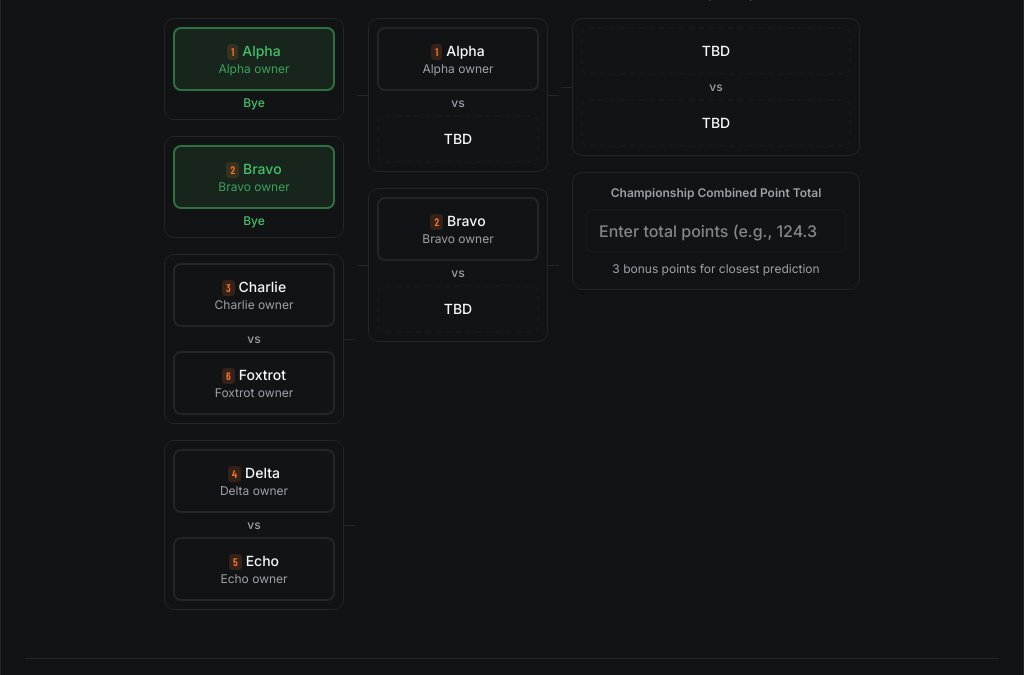
Scenario: PlayoffsBracket, 2026 and later › clears a semifinal pick the re-seed made impossible, and says so
The image size is (1024, 675).
(page scrolled)
What coordinates should you click on to do the following:
click the text "Foxtrot"
I would click on:
 (254, 375)
Its box is [222, 366, 286, 384].
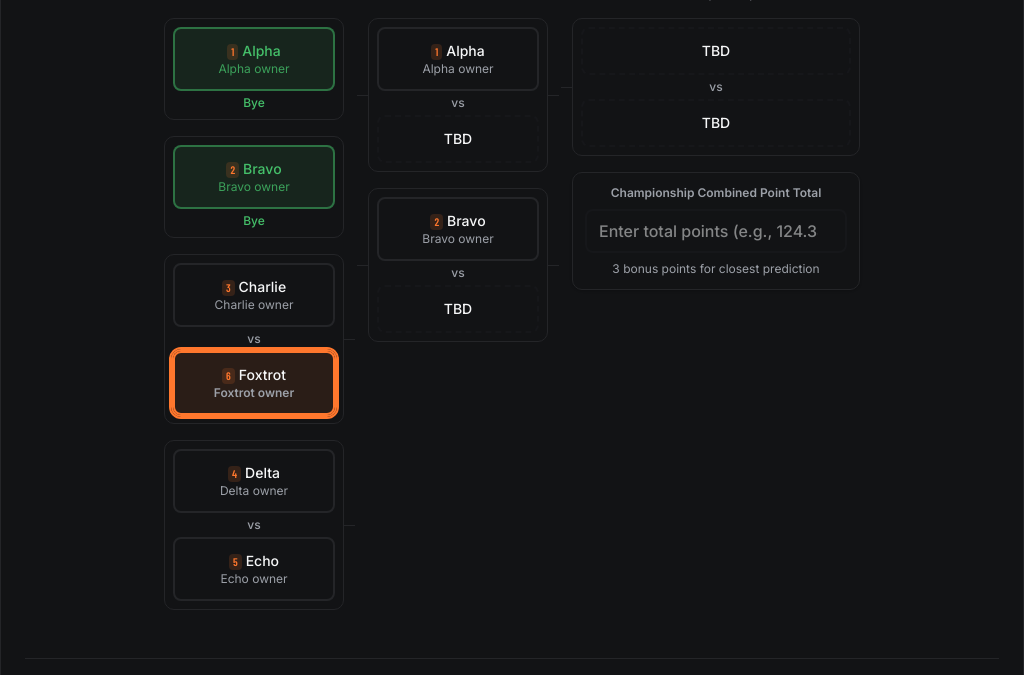
What coordinates should you click on to do the following:
click the text "Delta"
I would click on:
 (254, 473)
Its box is [228, 464, 280, 482].
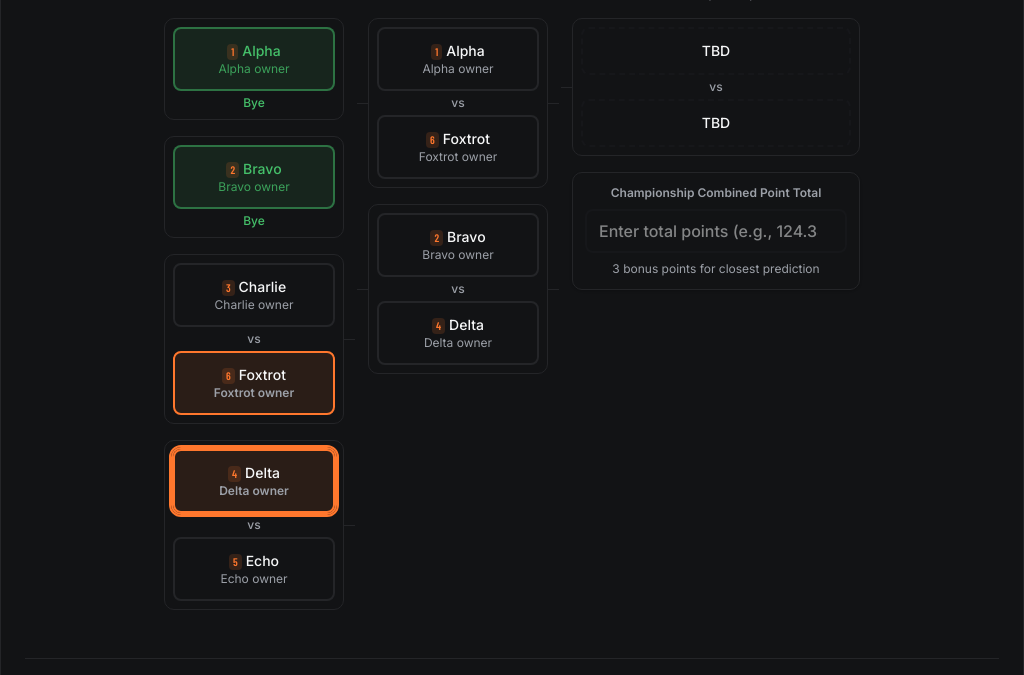
What coordinates should you click on to do the following:
click the 1st text "Foxtrot"
I would click on:
 (458, 139)
Its box is [426, 130, 490, 148].
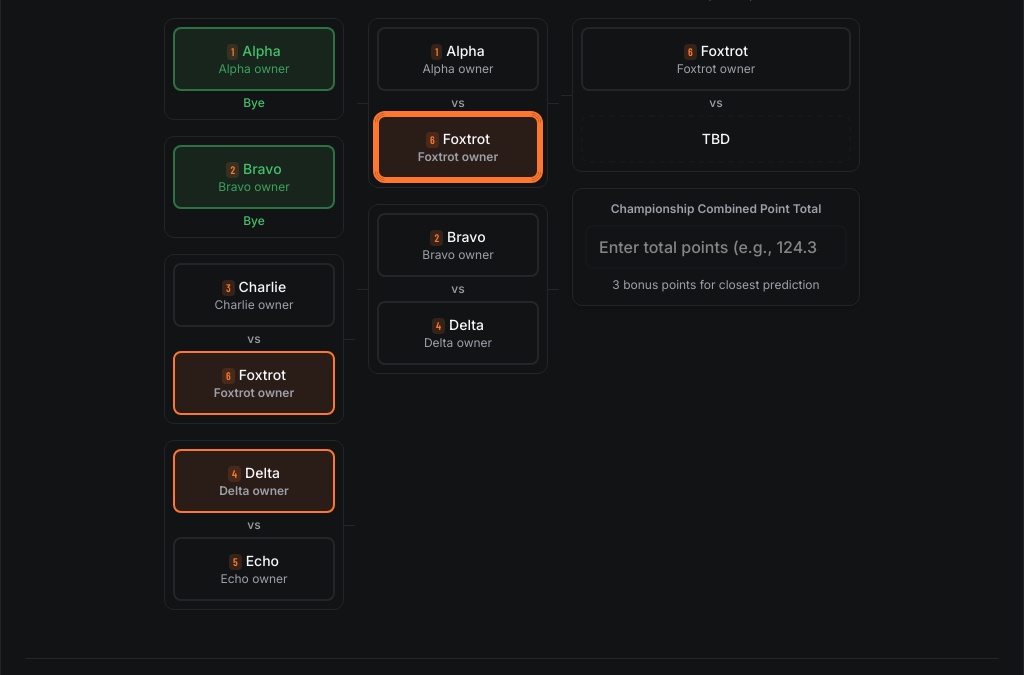
What coordinates should you click on to do the following:
click the text "Charlie"
I would click on:
 (254, 287)
Its box is [222, 278, 286, 296].
(page scrolled)
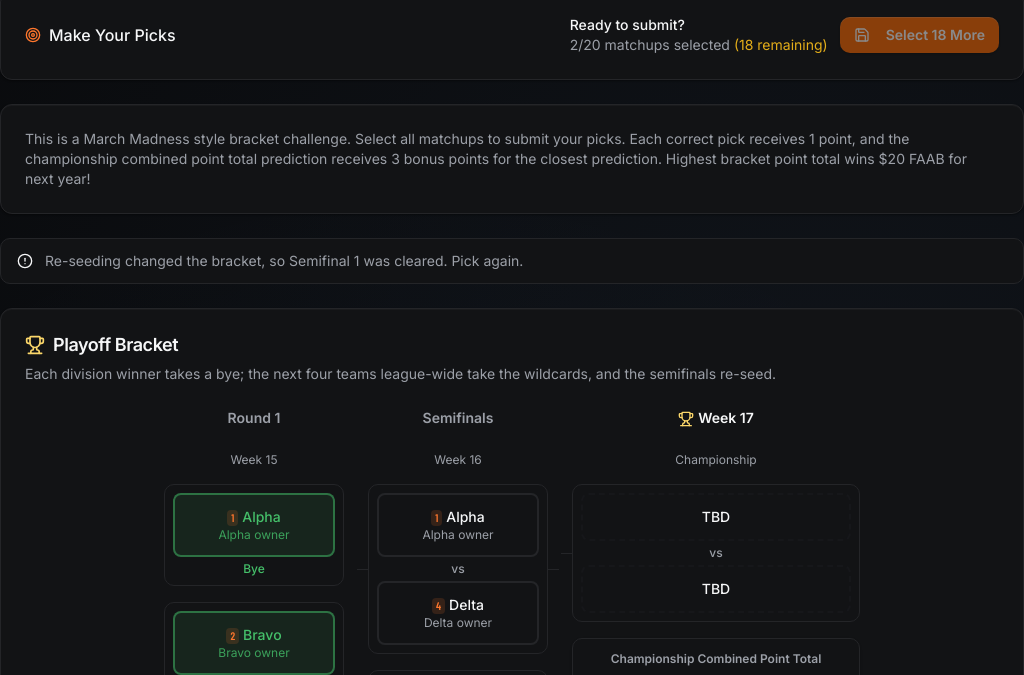
Check: the text "2/20 matchups selected(18 remaining)" is shown, box [570, 35, 828, 55]
